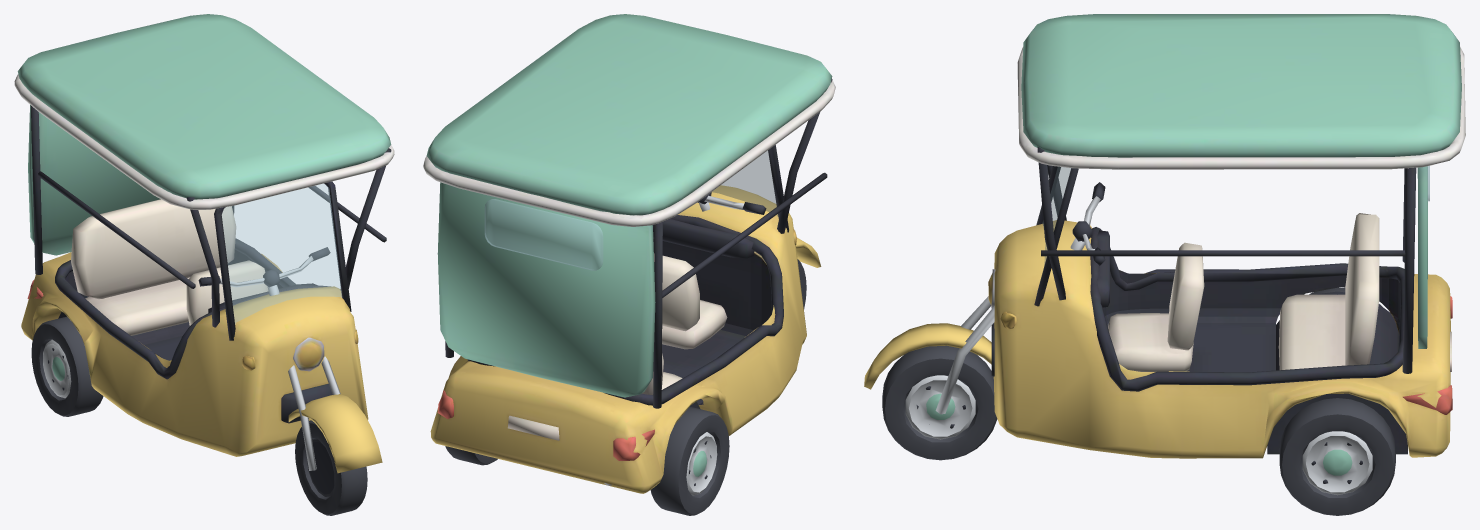
The model's file is n_tuktuk.glb.
3 views of the same model, side by side, from view 1: azimuth 30°, elevation 25°; view 2: azimuth 150°, elevation 25°; view 3: azimuth 270°, elevation 25° (orthographic). The views are drawn at different scales.
Parts seen in each view (by area): view 1: tuk-tuk_body, tuk-tuk_windows, tuk-tuk_handlebar, tuk-tuk_wheel_rr, tuk-tuk_wheel_f; view 2: tuk-tuk_body, tuk-tuk_windows, tuk-tuk_wheel_rr, tuk-tuk_handlebar, tuk-tuk_wheel_rl; view 3: tuk-tuk_body, tuk-tuk_wheel_rl, tuk-tuk_wheel_f, tuk-tuk_handlebar, tuk-tuk_windows.
Part boxes in pixels (x1,y1,x2,y2): tuk-tuk_body: (14, 14, 394, 456); tuk-tuk_windows: (222, 183, 341, 324); tuk-tuk_handlebar: (198, 247, 382, 473); tuk-tuk_wheel_rr: (31, 316, 103, 416); tuk-tuk_wheel_f: (295, 420, 367, 515); tuk-tuk_body: (423, 14, 835, 493); tuk-tuk_windows: (484, 151, 777, 270); tuk-tuk_wheel_rr: (650, 406, 729, 515); tuk-tuk_handlebar: (697, 192, 821, 267); tuk-tuk_wheel_rl: (445, 446, 497, 465); tuk-tuk_body: (988, 14, 1465, 458); tuk-tuk_wheel_rl: (1279, 398, 1395, 515); tuk-tuk_wheel_f: (882, 345, 997, 460); tuk-tuk_handlebar: (864, 182, 1105, 414); tuk-tuk_windows: (1042, 166, 1429, 264).
Bounding box in the file's own units: 1.46 × 1.93 × 2.76.
3 materials, 1 textured.
